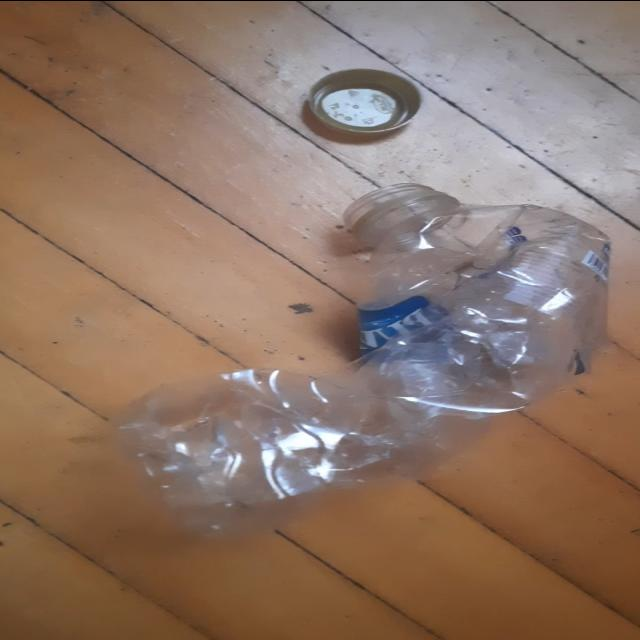Plastic: (110, 183, 610, 533)
